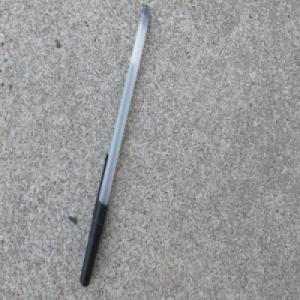Pen: (78, 3, 151, 288)
